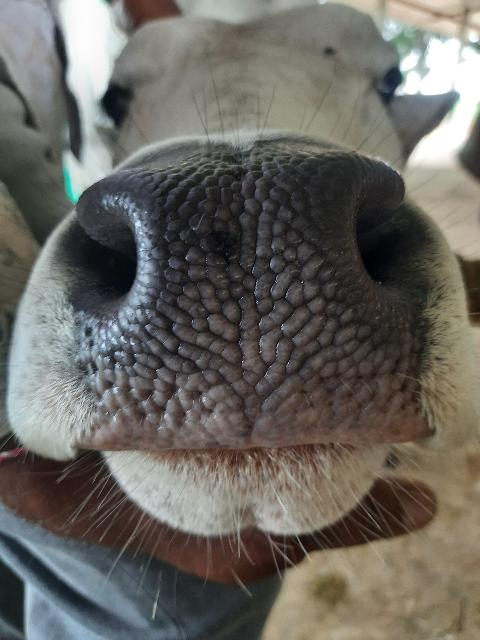Muzzle: (83, 172, 414, 442)
